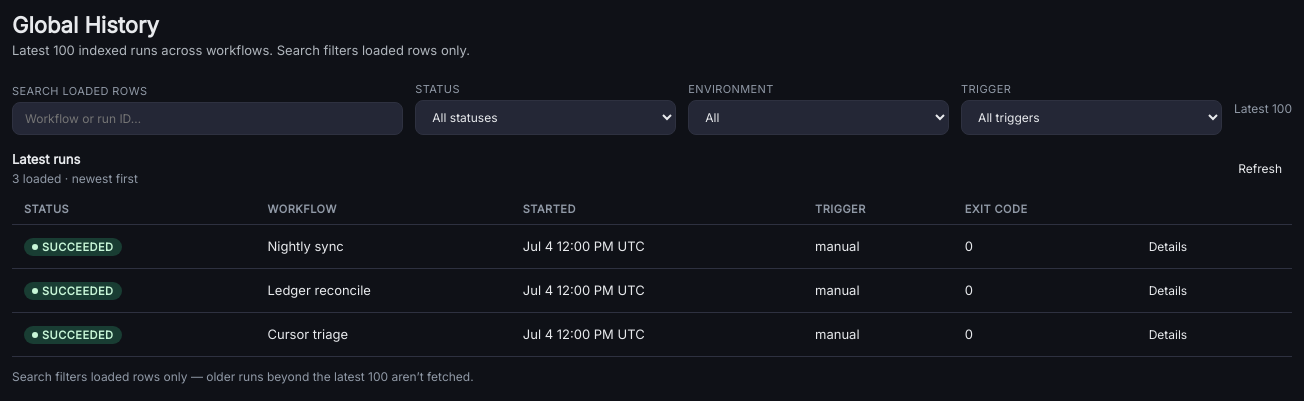
Test: GlobalHistory › search refines only the loaded rows without refetching
Expected: the text "Nightly sync" is shown, top-left (256, 224), bottom-right (511, 268)
Expected: the text "Ledger reconcile" is shown, top-left (256, 268), bottom-right (511, 312)
Step 1. Type "ledger" into the search field labelled "Search loaded rows" → (208, 118), box top-left (12, 102), bottom-right (403, 134)
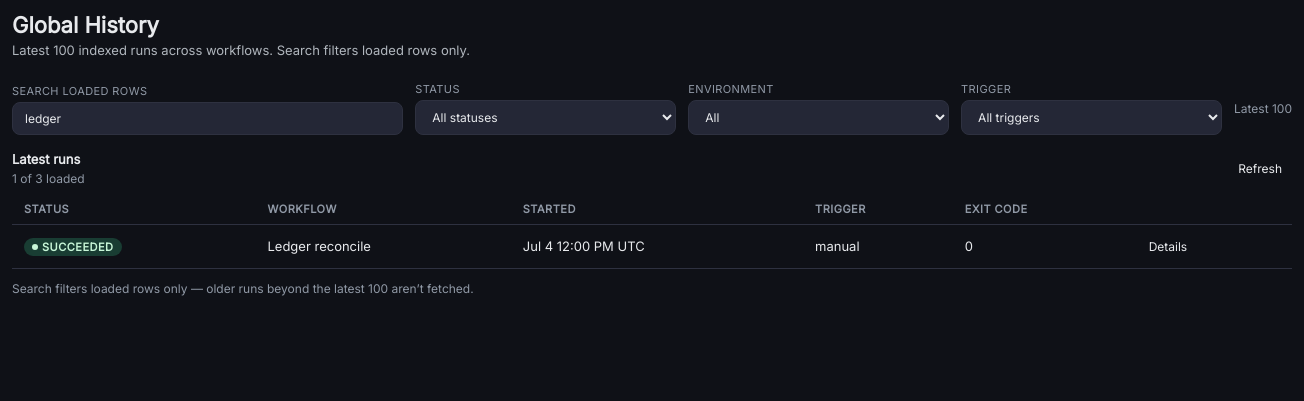
Expected: the text "Ledger reconcile" is shown, top-left (256, 224), bottom-right (511, 268)
Result: the text "Nightly sync" is gone
Result: the text "Cursor triage" is gone
